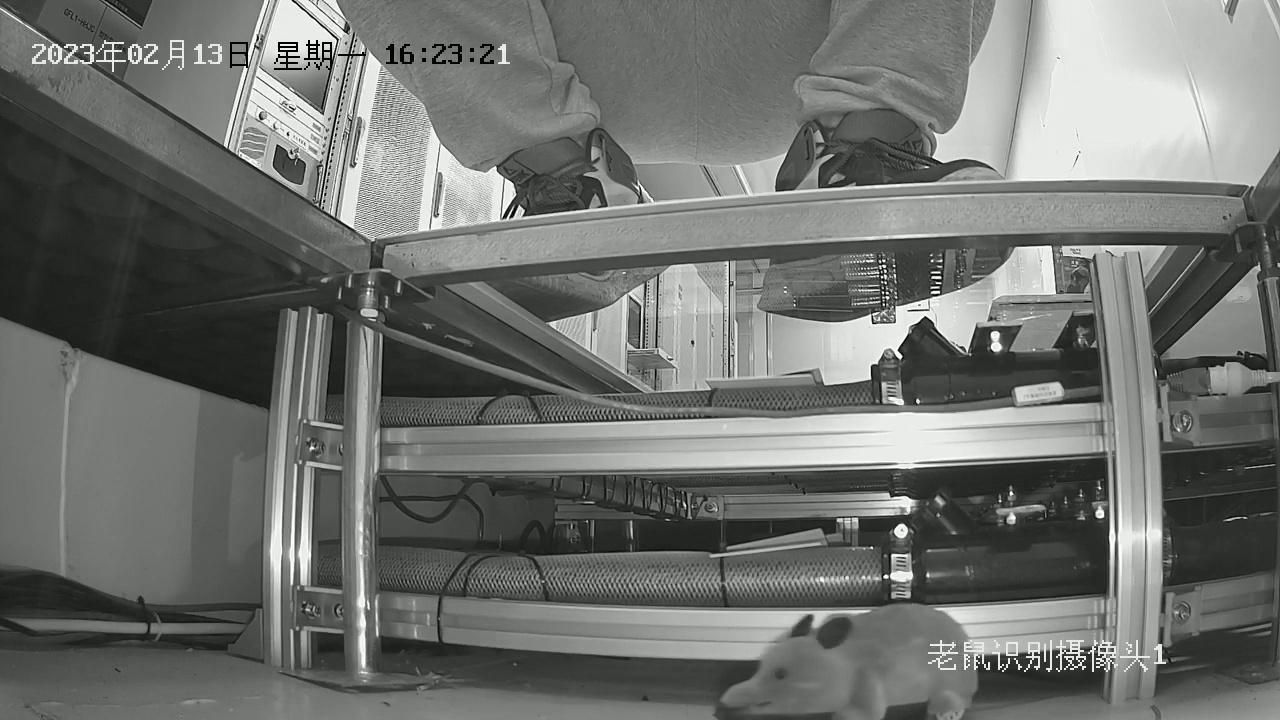rat: (712, 603, 978, 720)
